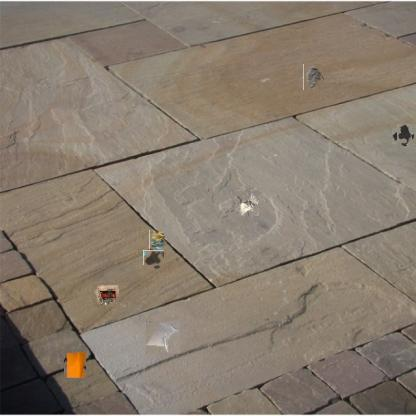dirty: (146, 322, 180, 356), (64, 349, 86, 379), (92, 283, 119, 307), (236, 190, 260, 216), (301, 66, 324, 89), (149, 230, 164, 250)
liquid: (394, 126, 414, 146), (144, 248, 163, 267)
